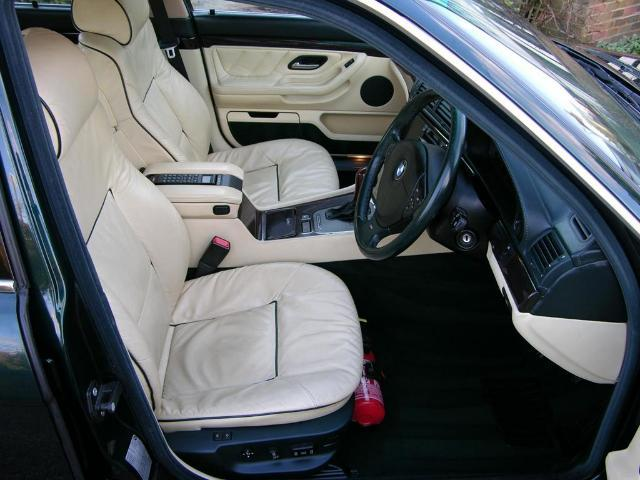Seatbelt: (150, 2, 184, 76)
